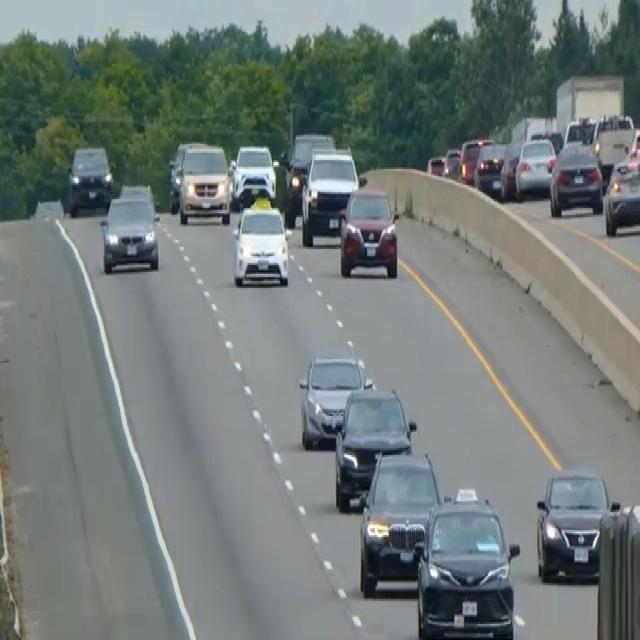car: (414, 486, 520, 638), (357, 448, 442, 597), (333, 382, 416, 510), (535, 466, 616, 583), (298, 350, 370, 448), (230, 196, 291, 290), (338, 185, 399, 277), (279, 130, 335, 226), (100, 190, 160, 274), (548, 139, 603, 217), (67, 142, 113, 214), (229, 142, 277, 206), (167, 137, 207, 211), (604, 153, 639, 236), (514, 133, 556, 201), (473, 140, 507, 198), (458, 135, 492, 185), (499, 139, 522, 199), (118, 180, 156, 213), (562, 114, 595, 149), (442, 146, 461, 180), (425, 153, 445, 176)
jeep: (299, 146, 361, 245)
minivan: (176, 140, 231, 226)
